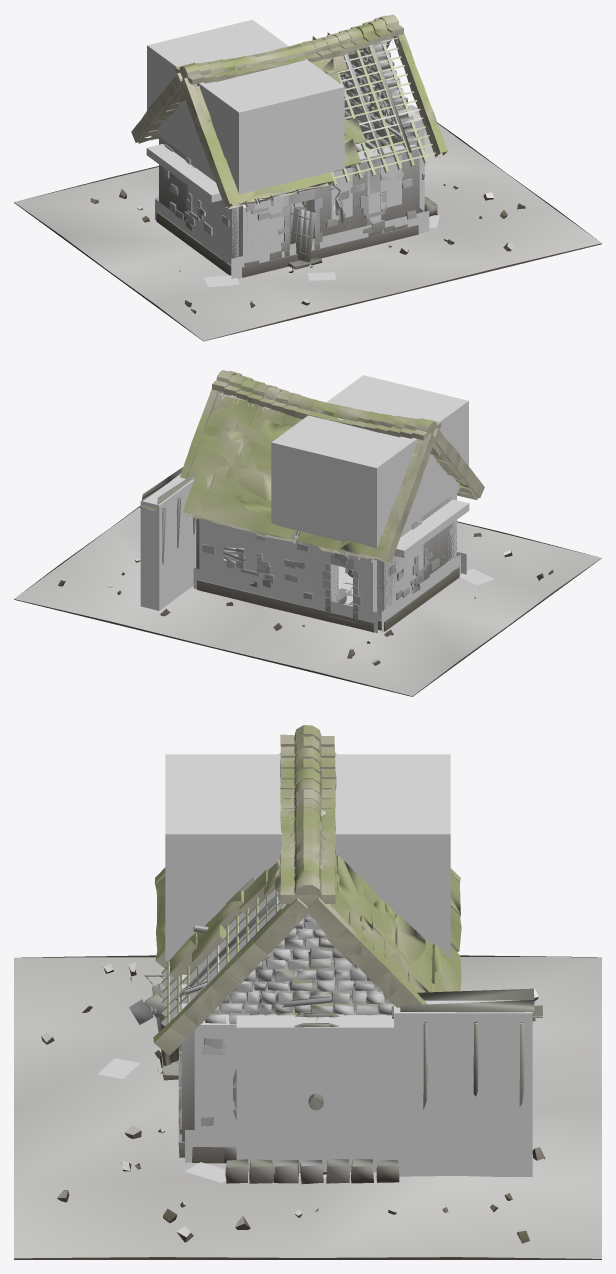
The model's file is bld_mill_shared_lite.glb.
3 renders of one model, top to bottom at view 1: azimuth 30°, elevation 25°; view 2: azimuth 150°, elevation 25°; view 3: azimuth 270°, elevation 25°, orthographic. The views are drawn at different scales.
Parts seen in each view (by area): view 1: ground_mud, col_roof_W, lite_merge_06, lite_merge_02, decals_mill, lite_merge_04, lite_merge_03, col_wall_W_0, col_loft, col_wall_S_0, wall_S_stones, door_main_leaf (+2 smaller); view 2: ground_mud, lite_merge_06, col_roof_W, col_flume, col_wall_N_0, decals_mill, lite_merge_03, wall_N_stones, col_wall_W_0, col_loft, lite_merge_05, col_wall_N_2 (+2 smaller); view 3: ground_mud, col_roof_W, lite_merge_06, col_wheel, col_flume, lite_merge_02, lite_merge_04, wheel_pit, col_wall_E_0, lite_merge_00, decals_mill, lite_merge_01 (+3 smaller).
Part boxes in pixels (bbox=[...]): ground_mud: bbox=[14, 105, 601, 341]; col_roof_W: bbox=[147, 19, 344, 193]; lite_merge_06: bbox=[131, 14, 447, 209]; lite_merge_02: bbox=[90, 40, 525, 313]; decals_mill: bbox=[155, 155, 439, 286]; lite_merge_04: bbox=[150, 36, 435, 207]; lite_merge_03: bbox=[156, 136, 322, 275]; col_wall_W_0: bbox=[184, 155, 238, 257]; col_loft: bbox=[146, 144, 221, 202]; col_wall_S_0: bbox=[239, 191, 288, 256]; wall_S_stones: bbox=[246, 191, 386, 256]; door_main_leaf: bbox=[289, 205, 315, 262]; ground_mud: bbox=[14, 505, 601, 696]; lite_merge_06: bbox=[180, 370, 484, 563]; col_roof_W: bbox=[271, 375, 468, 548]; col_flume: bbox=[140, 473, 196, 610]; col_wall_N_0: bbox=[199, 519, 338, 602]; decals_mill: bbox=[192, 552, 493, 633]; lite_merge_03: bbox=[377, 495, 459, 631]; wall_N_stones: bbox=[197, 530, 373, 632]; col_wall_W_0: bbox=[377, 491, 456, 620]; col_loft: bbox=[394, 499, 469, 557]; lite_merge_05: bbox=[235, 547, 429, 625]; col_wall_N_2: bbox=[354, 556, 376, 612]; ground_mud: bbox=[14, 955, 601, 1259]; col_roof_W: bbox=[165, 754, 450, 960]; lite_merge_06: bbox=[153, 725, 461, 1055]; col_wheel: bbox=[236, 1015, 393, 1172]; col_flume: bbox=[394, 1000, 532, 1176]; lite_merge_02: bbox=[41, 914, 545, 1243]; lite_merge_04: bbox=[161, 774, 381, 1026]; wheel_pit: bbox=[224, 1146, 399, 1184]; col_wall_E_0: bbox=[194, 1014, 236, 1129]; lite_merge_00: bbox=[391, 988, 542, 1018]; decals_mill: bbox=[98, 1058, 326, 1182]; lite_merge_01: bbox=[423, 1021, 524, 1109].
Size of the model in its own units: 17 by 7.93 by 14.
